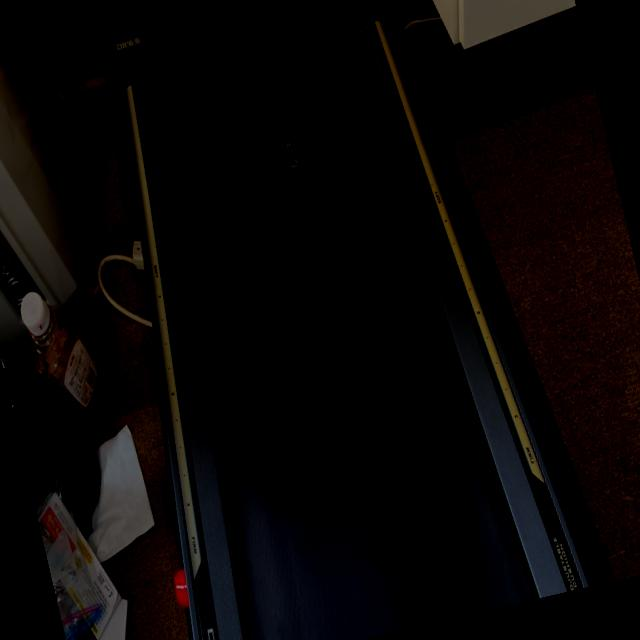Trash: (278, 132, 302, 172)
